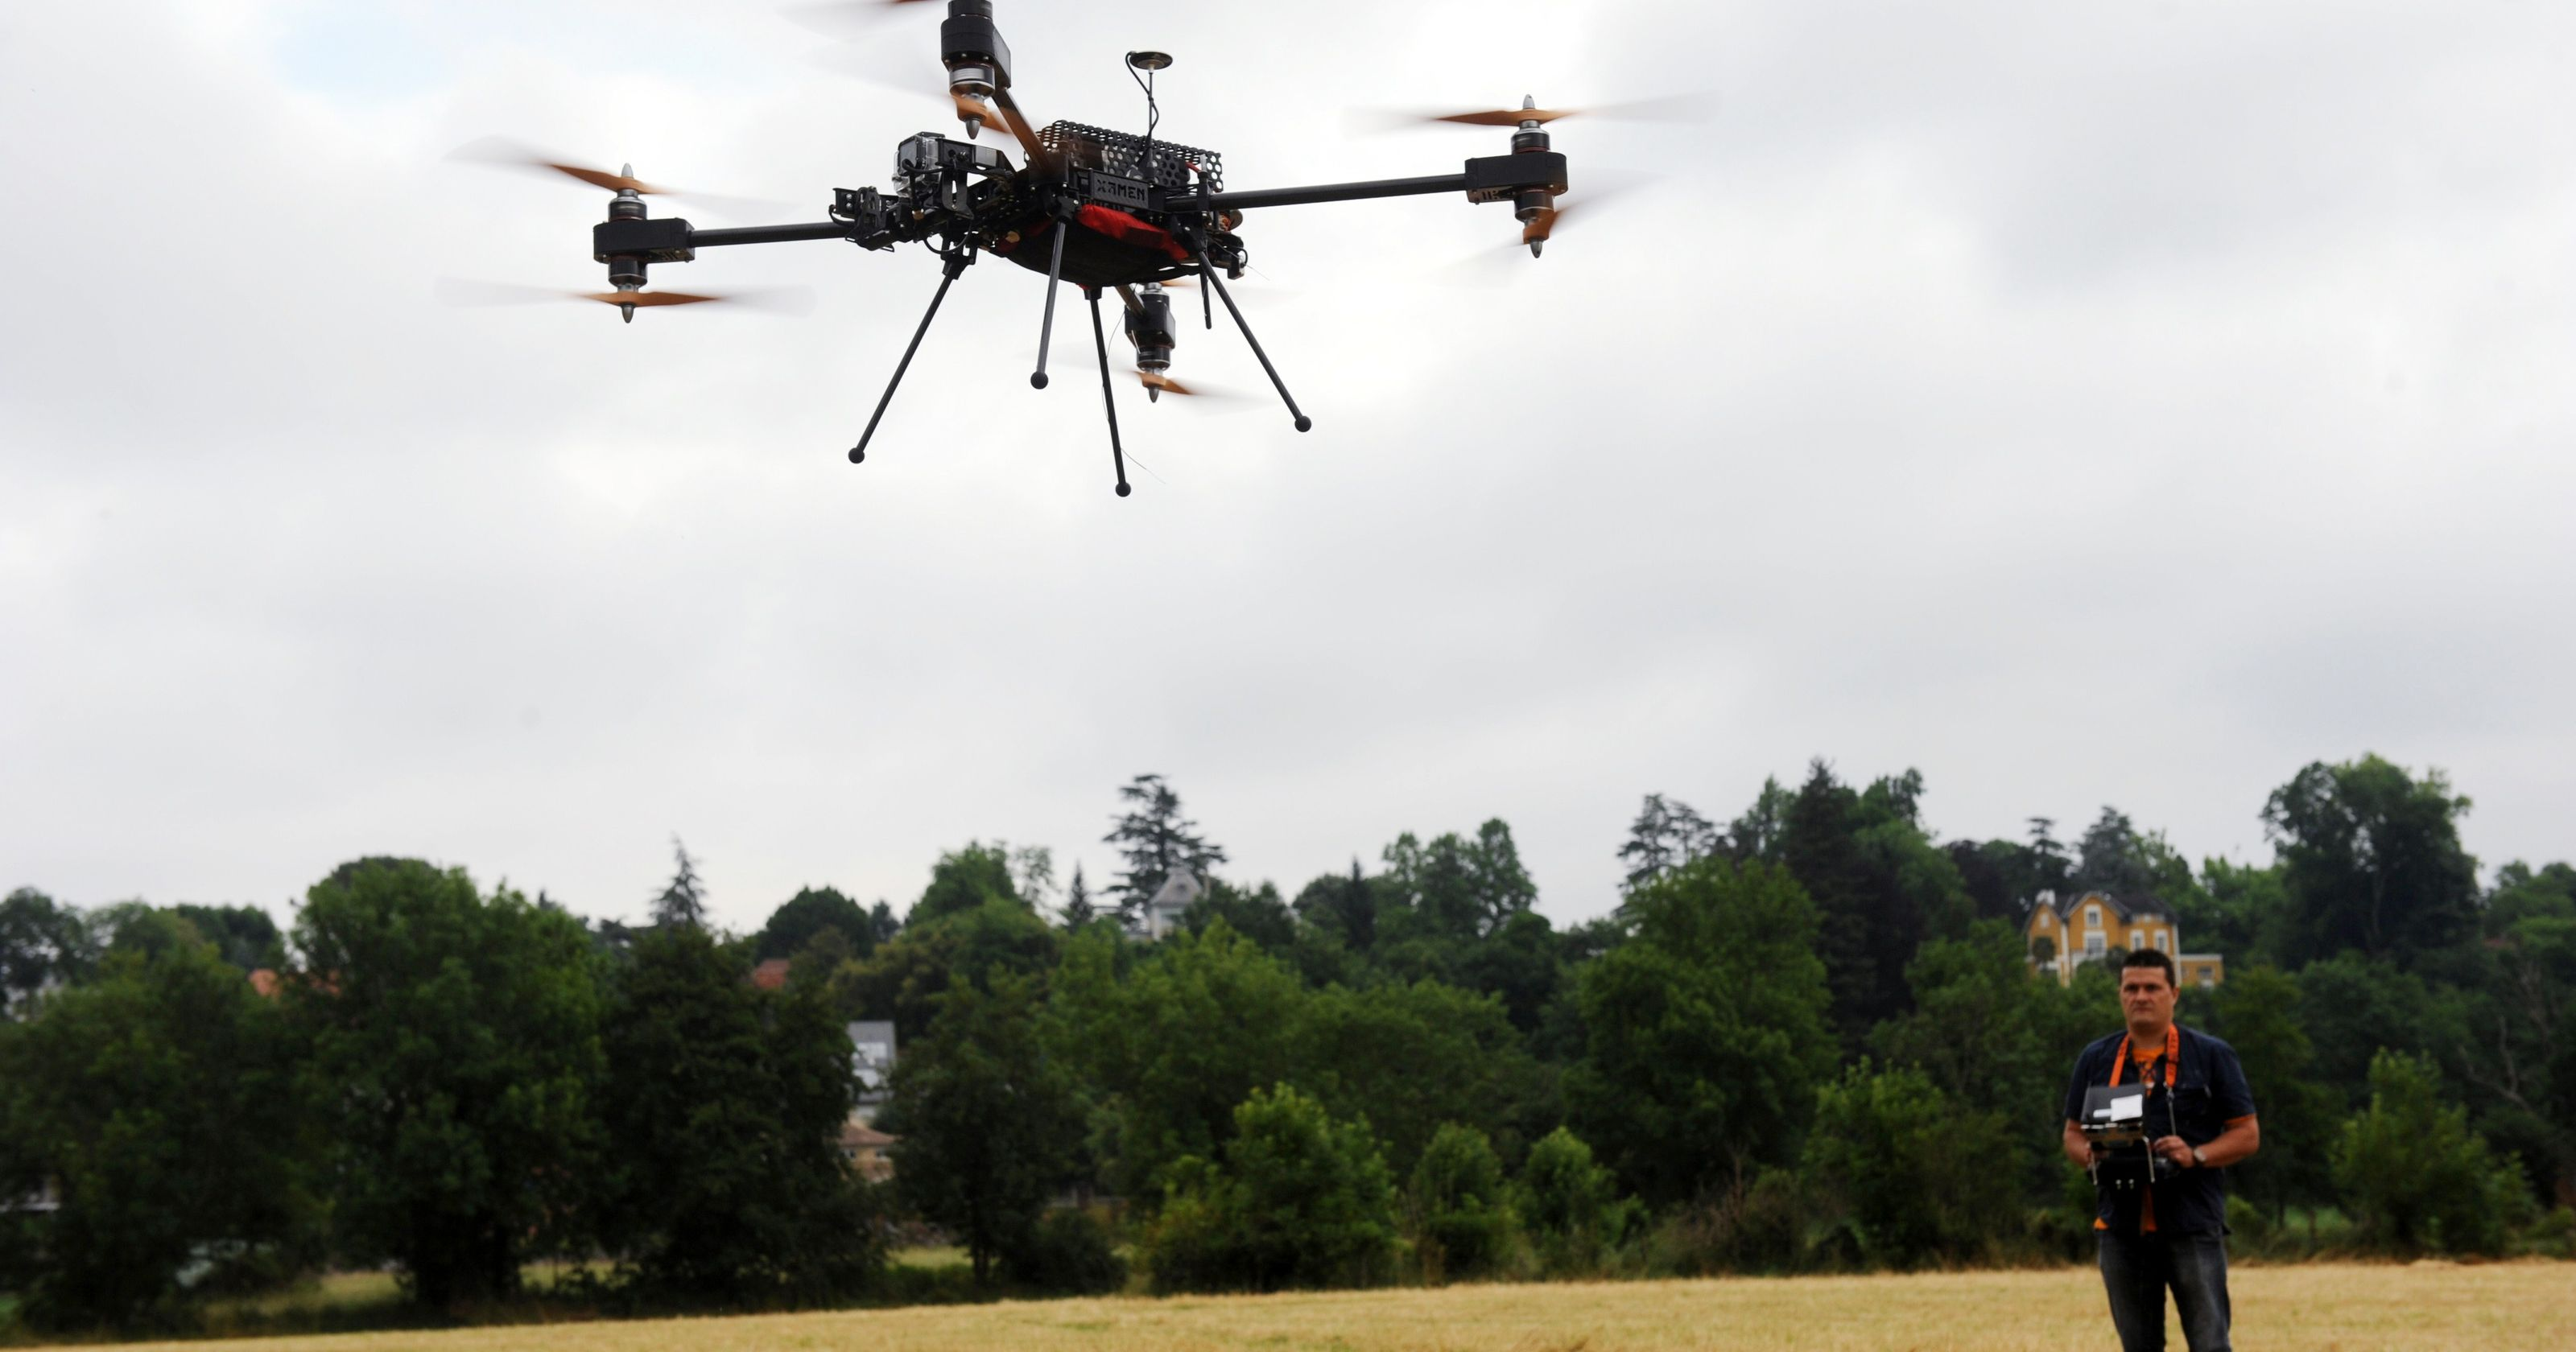drone: (452, 2, 1714, 504)
person: (2047, 946, 2265, 1352)
